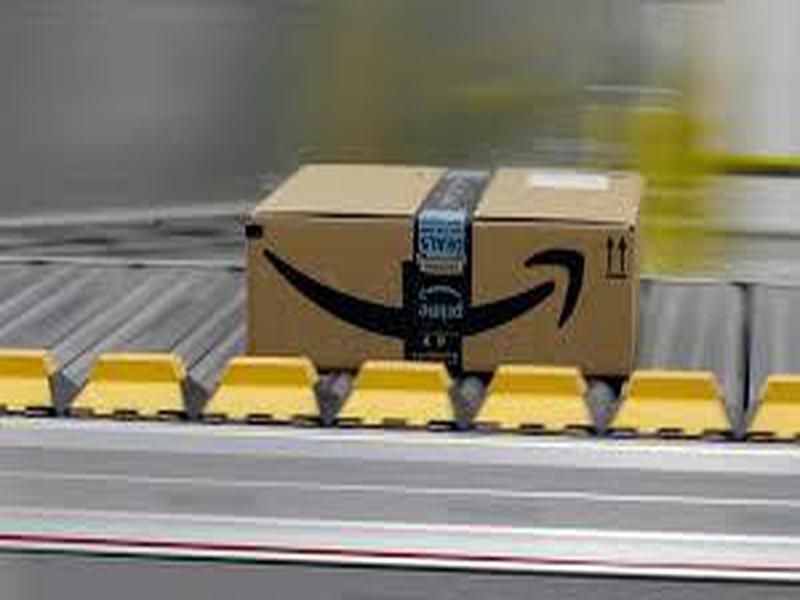package: (238, 147, 651, 387)
